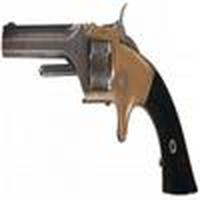gun: (2, 16, 200, 174)
